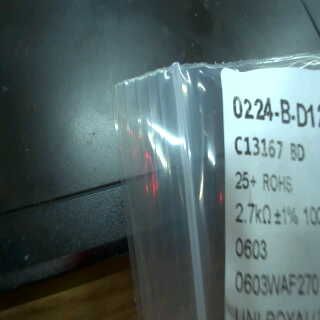2.7kR: (227, 198, 275, 227)
